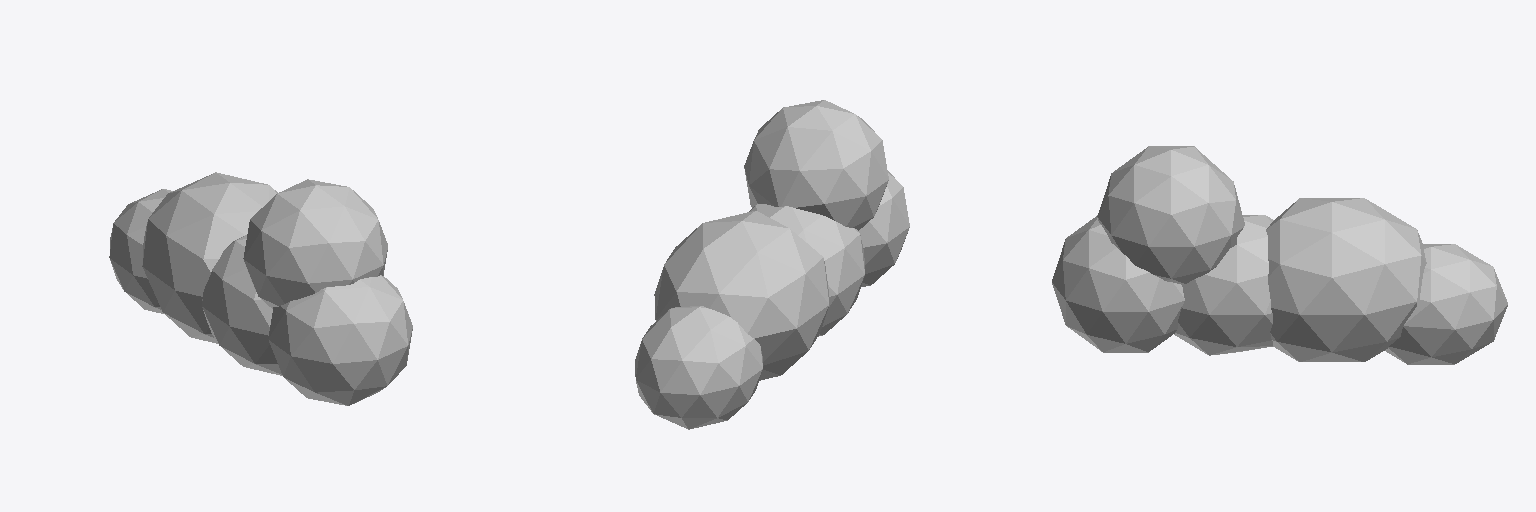
The model's file is cloud.obj.
3 renders of one model, left to right at view 1: azimuth 30°, elevation 25°; view 2: azimuth 150°, elevation 25°; view 3: azimuth 270°, elevation 25°, orthographic.
Visible parts, largest first — view 1: Object_10; view 2: Object_10; view 3: Object_10.
Part boxes in pixels (x1,y1,x2,y2): Object_10: (109,172,412,405); Object_10: (635,100,909,429); Object_10: (1052,146,1507,364).
Size of the model in its own units: 2.22 by 3.25 by 6.16.